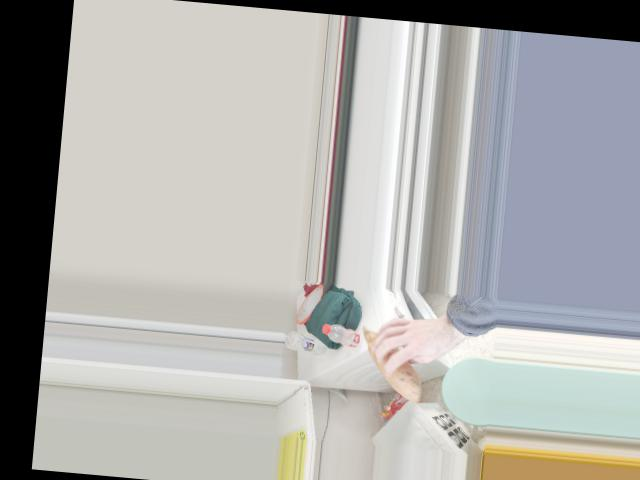sweet_potato: (359, 322, 425, 398)
